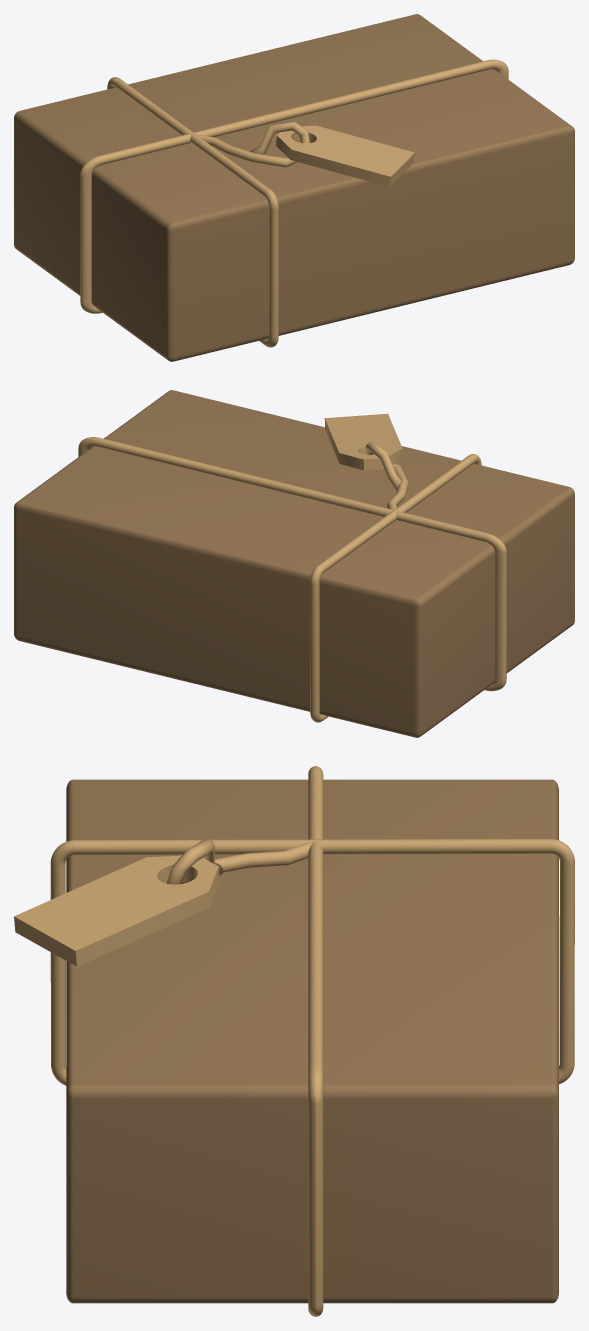
File: drop.fbx
3 views of the same model, one above another, from view 1: azimuth 30°, elevation 25°; view 2: azimuth 150°, elevation 25°; view 3: azimuth 270°, elevation 25° (orthographic). The views are drawn at different scales.
Visible parts, largest first — view 1: Cube.010, Cylinder.014, Cube.013, Cylinder.013, Cylinder.015; view 2: Cube.010, Cylinder.014, Cylinder.013, Cube.013, Cylinder.015; view 3: Cube.010, Cylinder.013, Cube.013, Cylinder.014, Cylinder.015.
Boxes of the visible parts, left/top/right/bottom form: Cube.010: left=14, top=14, right=574, bottom=361; Cylinder.014: left=80, top=59, right=508, bottom=313; Cube.013: left=276, top=125, right=414, bottom=186; Cylinder.013: left=107, top=77, right=278, bottom=347; Cylinder.015: left=195, top=122, right=310, bottom=167; Cube.010: left=14, top=390, right=574, bottom=737; Cylinder.014: left=78, top=437, right=506, bottom=691; Cylinder.013: left=310, top=454, right=481, bottom=722; Cube.013: left=324, top=413, right=402, bottom=470; Cylinder.015: left=365, top=441, right=408, bottom=509; Cube.010: left=66, top=779, right=558, bottom=1303; Cylinder.013: left=50, top=839, right=574, bottom=1085; Cube.013: left=14, top=855, right=219, bottom=966; Cylinder.014: left=308, top=766, right=323, bottom=1316; Cylinder.015: left=166, top=838, right=312, bottom=884.
Size of the model in its own units: 3.15 by 1.28 by 2.28.
